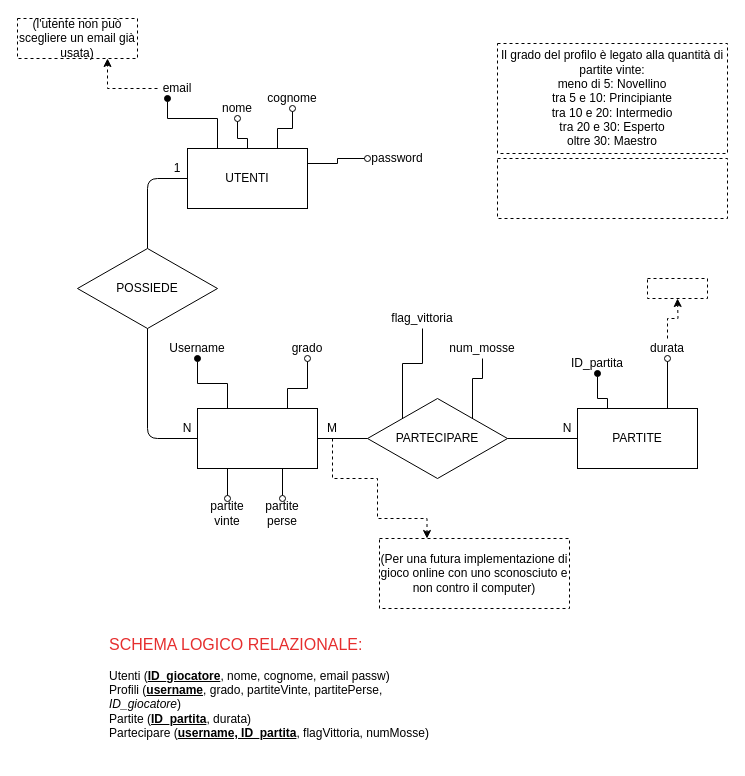
This 745x776 diagram has some shape labels left out. The shapes that lost their labels are listed below. From the top down, each one's box as (x1, y1, x2, y2) in pixels, then its label:
(496, 158, 728, 218): ID_paritta e ID_giocatore sono semplici contatori (AUTO INCREMENT)
(646, 278, 708, 298): (minuti)
(196, 408, 318, 468): PROFILI
